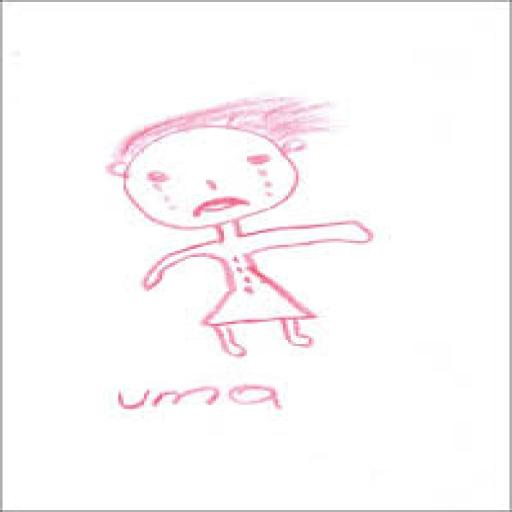person: (104, 95, 378, 360)
